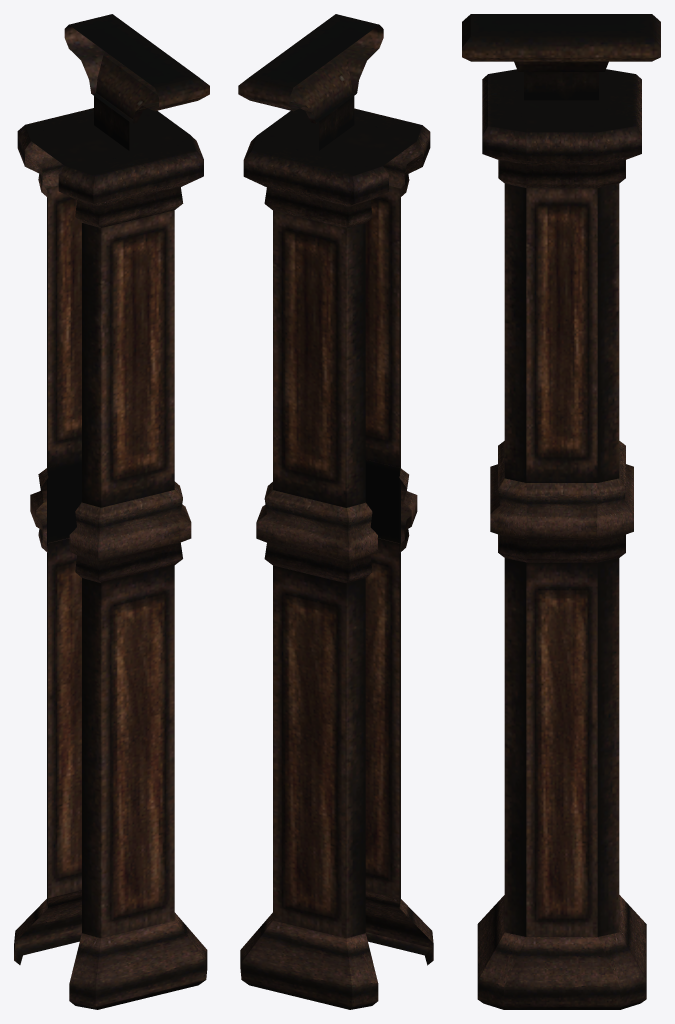
Rendered from default02_mansion_endcap.DAE.
3 renders of one model, left to right at view 1: azimuth 30°, elevation 25°; view 2: azimuth 150°, elevation 25°; view 3: azimuth 270°, elevation 25°, orthographic. The views are drawn at different scales.
Visible parts, largest first — view 1: Object002; view 2: Object002; view 3: Object002.
Part boxes in pixels (x1,y1,x2,y2): Object002: [14, 14, 209, 1009]; Object002: [238, 14, 433, 1009]; Object002: [462, 14, 660, 1009].
Bounding box in the file's own units: 0.6322 × 4 × 0.7481.
